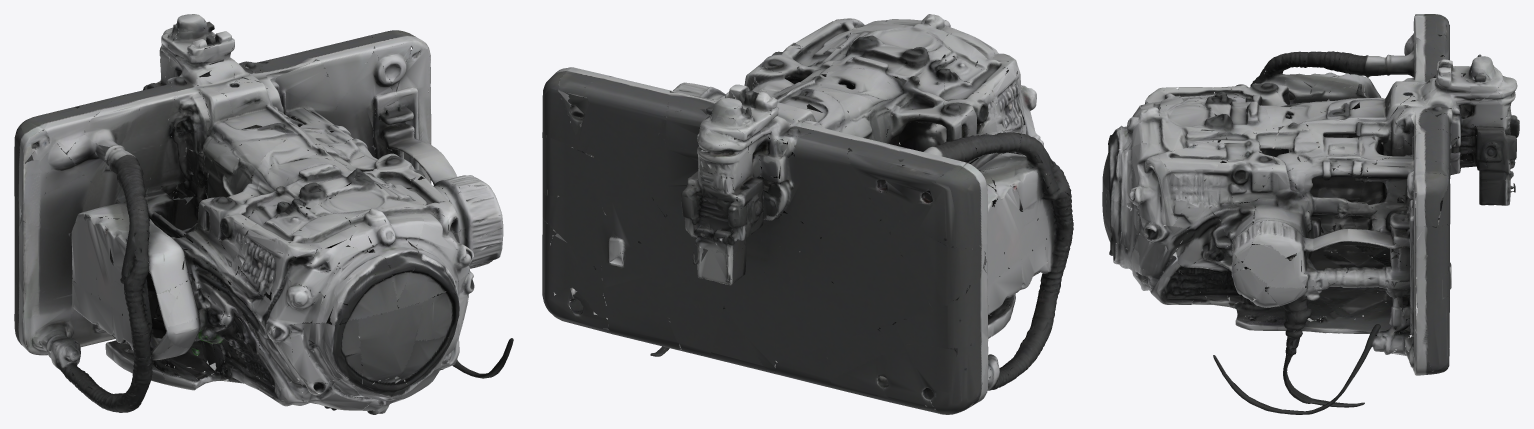
The model's file is Meshy_AI_Create_a_realistic_sc_0612121704_texture.glb.
The picture shows the model from 3 angles, left to right: view 1: azimuth 30°, elevation 25°; view 2: azimuth 150°, elevation 25°; view 3: azimuth 270°, elevation 25°; orthographic projection. The views are drawn at different scales.
Visible parts, largest first — view 1: Mesh_0; view 2: Mesh_0; view 3: Mesh_0.
Boxes of the visible parts, x1,y1,x2,y2 form: Mesh_0: [14, 14, 513, 414]; Mesh_0: [542, 14, 1073, 414]; Mesh_0: [1102, 14, 1519, 414].
Size of the model in its own units: 2 by 1.52 by 2.
Materials: 1 (1 with a texture image).
